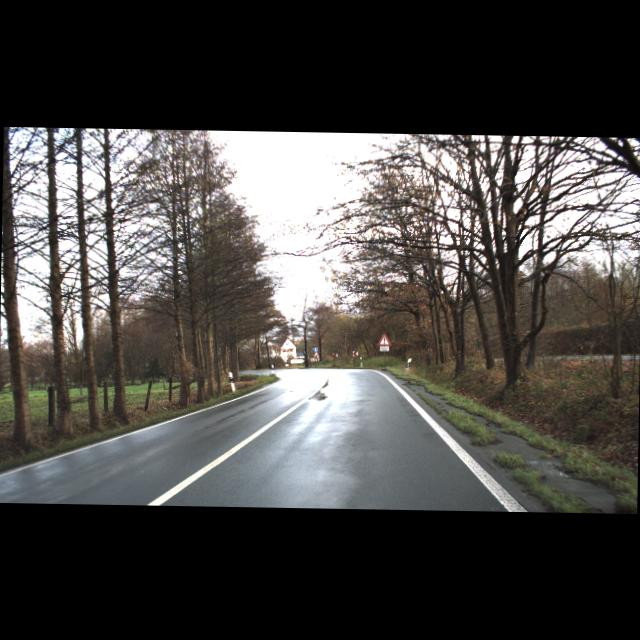danger: (377, 333, 390, 345)
